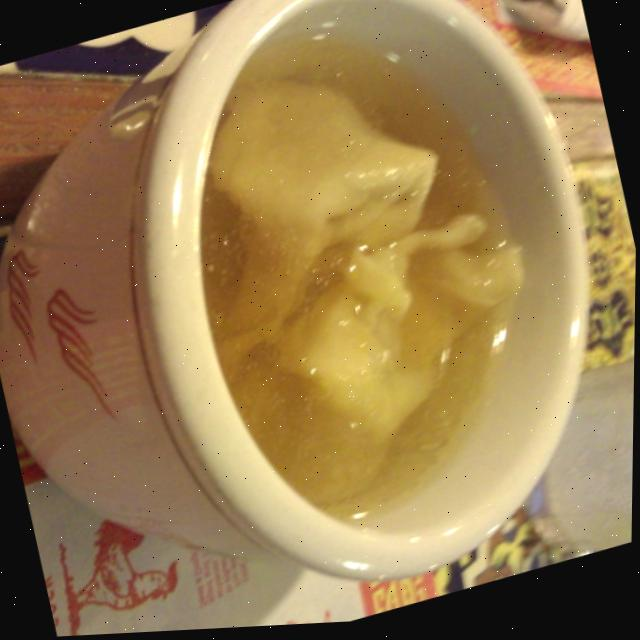汤锅炖物: (103, 0, 640, 622)
